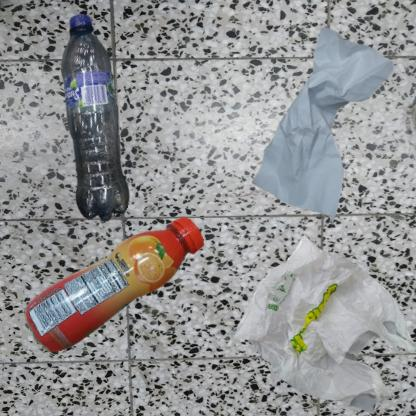bolsa: (213, 213, 416, 416)
botella: (10, 10, 207, 265), (10, 213, 252, 376)
papel: (213, 10, 416, 259)
